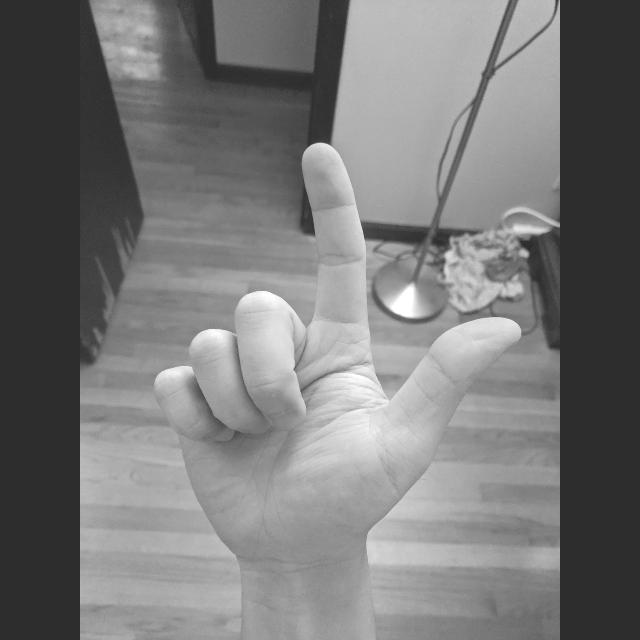L: (147, 138, 527, 566)
